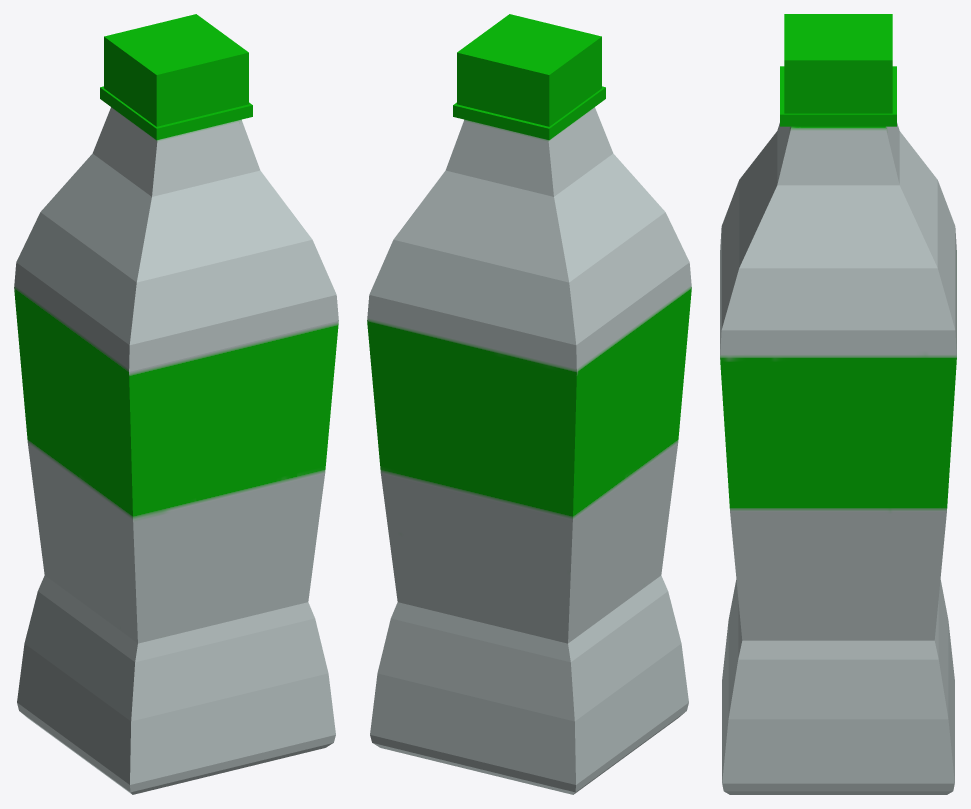
The model's file is Collectible Item.fbx_Sprite.fbx.
3 renders of one model, left to right at view 1: azimuth 30°, elevation 25°; view 2: azimuth 150°, elevation 25°; view 3: azimuth 270°, elevation 25°, orthographic. The views are drawn at different scales.
Visible parts, largest first — view 1: Sprite; view 2: Sprite; view 3: Sprite.
Boxes of the visible parts, x1,y1,x2,y2 form: Sprite: (14,14,338,794); Sprite: (367,14,691,794); Sprite: (720,14,956,794).
Size of the model in its own units: 1.02 by 3.2 by 0.9671.
Materials: 1 (1 with a texture image).
